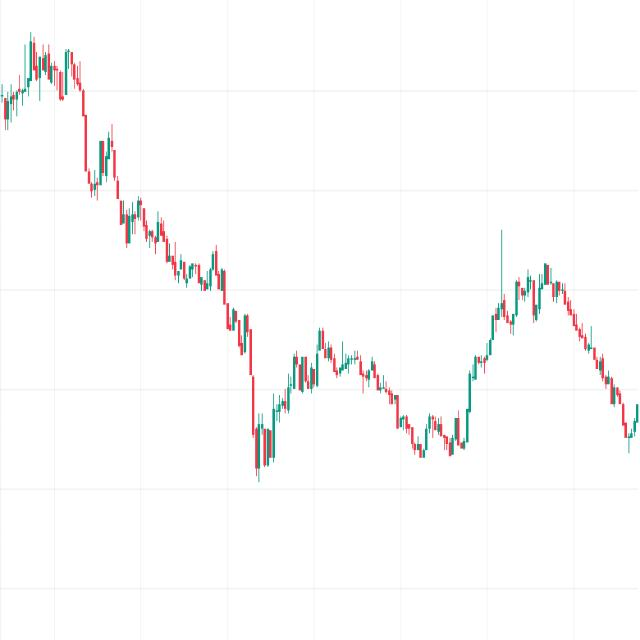Falling-Wedge: (74, 36, 280, 377)
